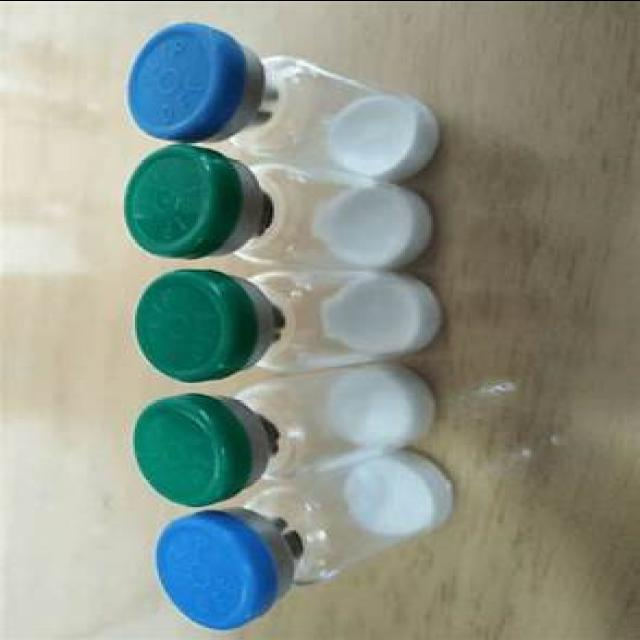vial: (133, 267, 235, 379), (139, 17, 236, 130), (134, 150, 238, 246), (158, 524, 252, 626), (149, 408, 221, 506)
